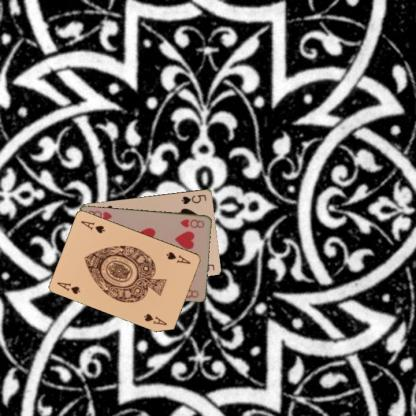5s: (179, 192, 208, 205)
8h: (178, 216, 206, 229)
As: (164, 249, 192, 265), (55, 280, 81, 295)
